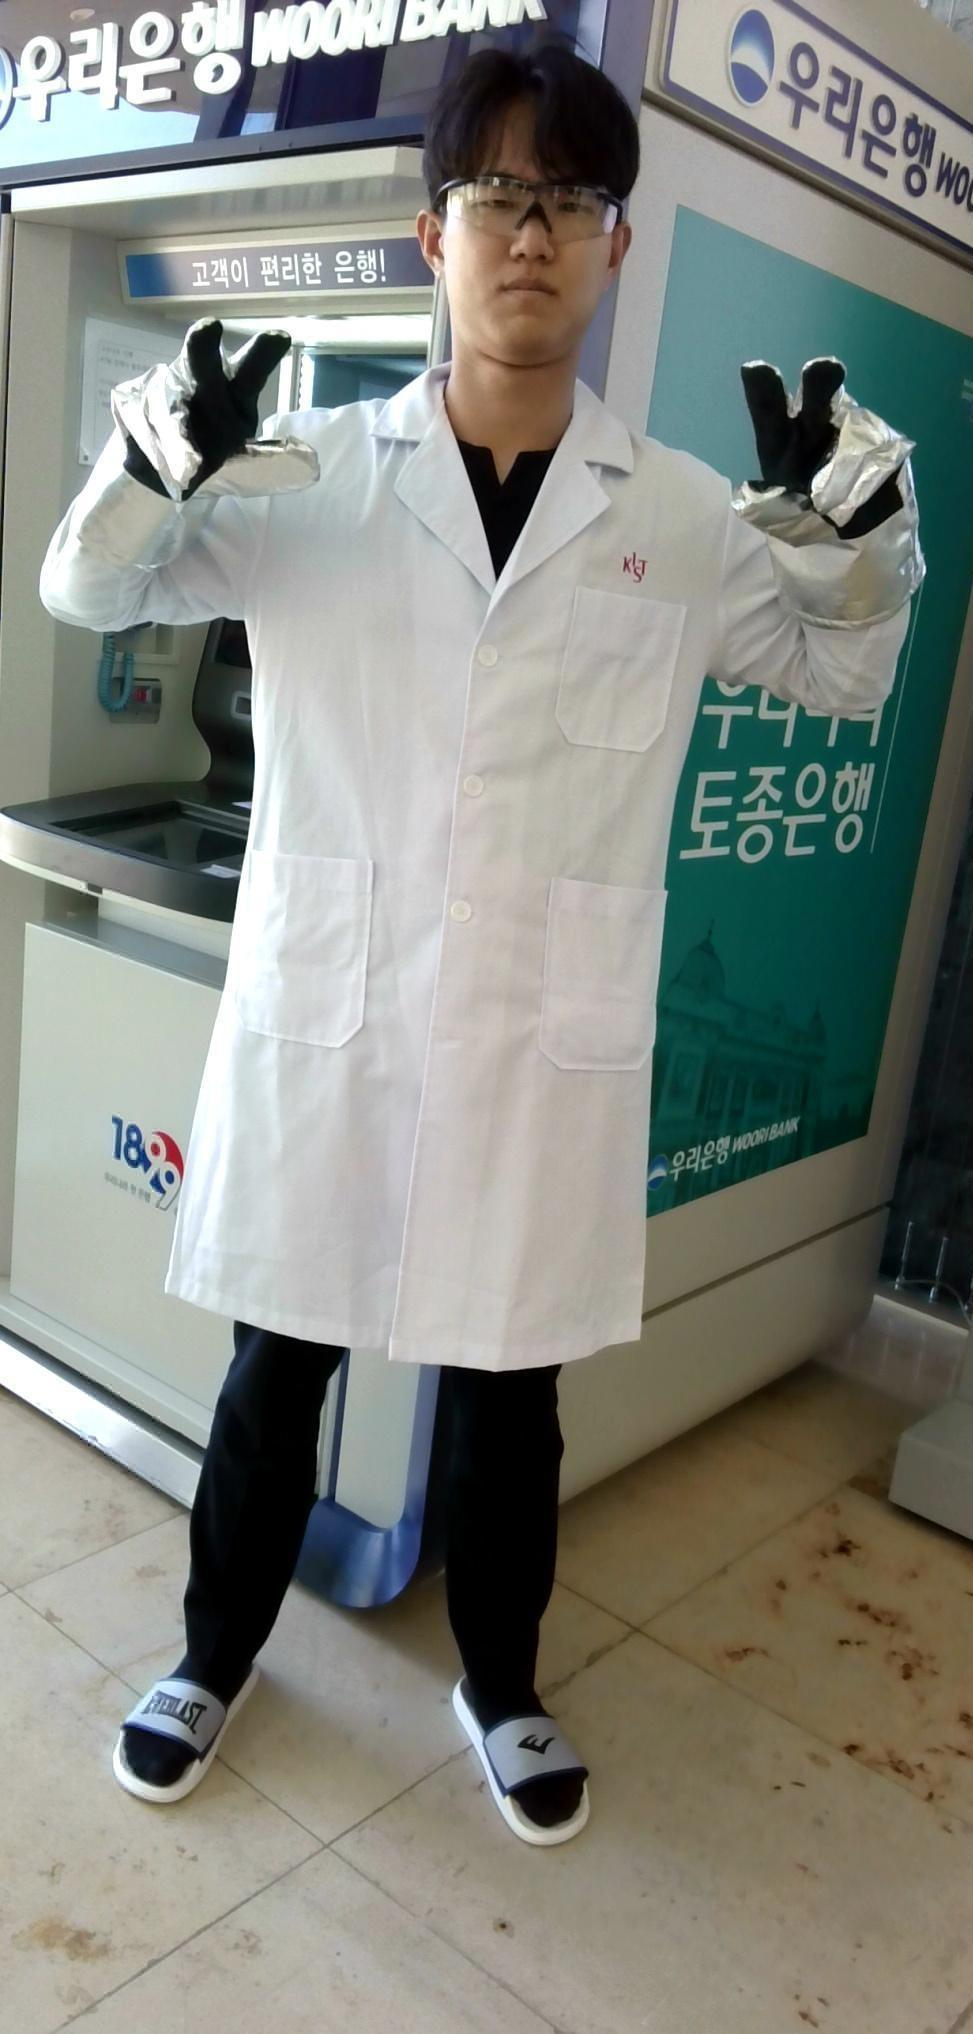lab_coat: (187, 466, 730, 1311)
